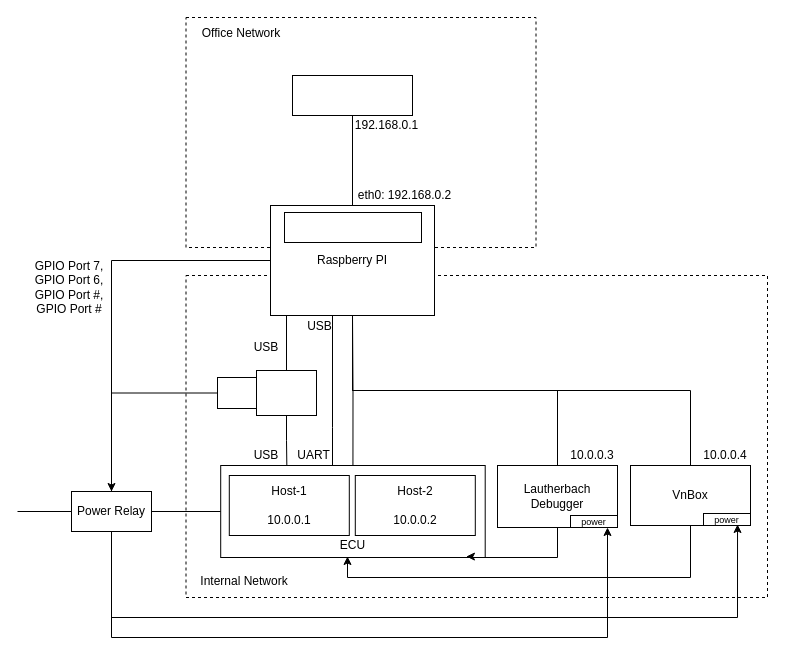
Some shapes in this 785 by 663 pixel diagram are drawn without their labels. Here are the shapes that lost their labels. From the top down, the centre of each, then its label:
At [352,95]: "PC".
At [353,227]: "Web Interface".
At [236,392]: "Switch".
At [286,393]: "USB Storage".
